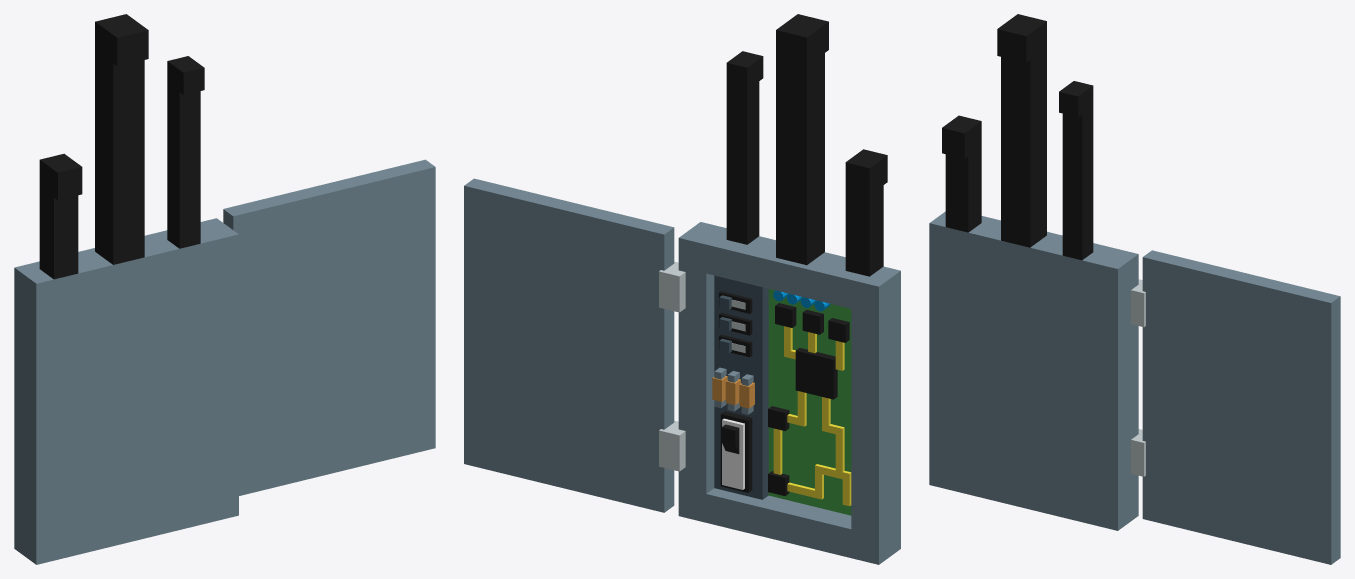
Rendered from fusebox.fbx.
3 renders of one model, left to right at view 1: azimuth 30°, elevation 25°; view 2: azimuth 150°, elevation 25°; view 3: azimuth 330°, elevation 25°, orthographic. The views are drawn at different scales.
Parts seen in each view (by area): view 1: base, shield; view 2: base, shield; view 3: base, shield.
Part boxes in pixels (x1,y1,x2,y2): base: (14,14,238,564); shield: (223,159,435,495); base: (659,14,900,564); shield: (464,178,674,512); base: (929,14,1145,530); shield: (1142,250,1340,564).
Size of the model in its own units: 119 by 140 by 16.
